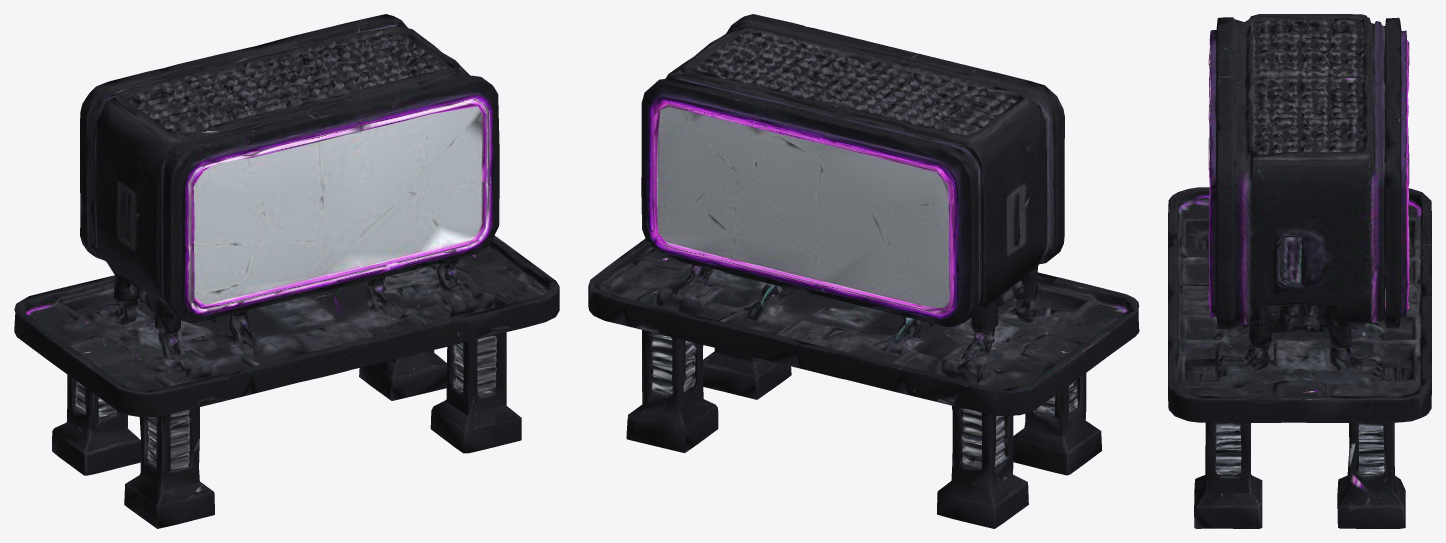
Rendered from gantry_a_p.glb.
3 renders of one model, left to right at view 1: azimuth 30°, elevation 25°; view 2: azimuth 150°, elevation 25°; view 3: azimuth 270°, elevation 25°, orthographic.
Bounding box in the file's own units: 1.9 × 1.5 × 0.9947.
Materials: 1 (1 with a texture image).
